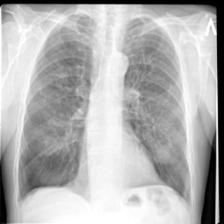tuberculosis: (12, 8, 196, 217)
